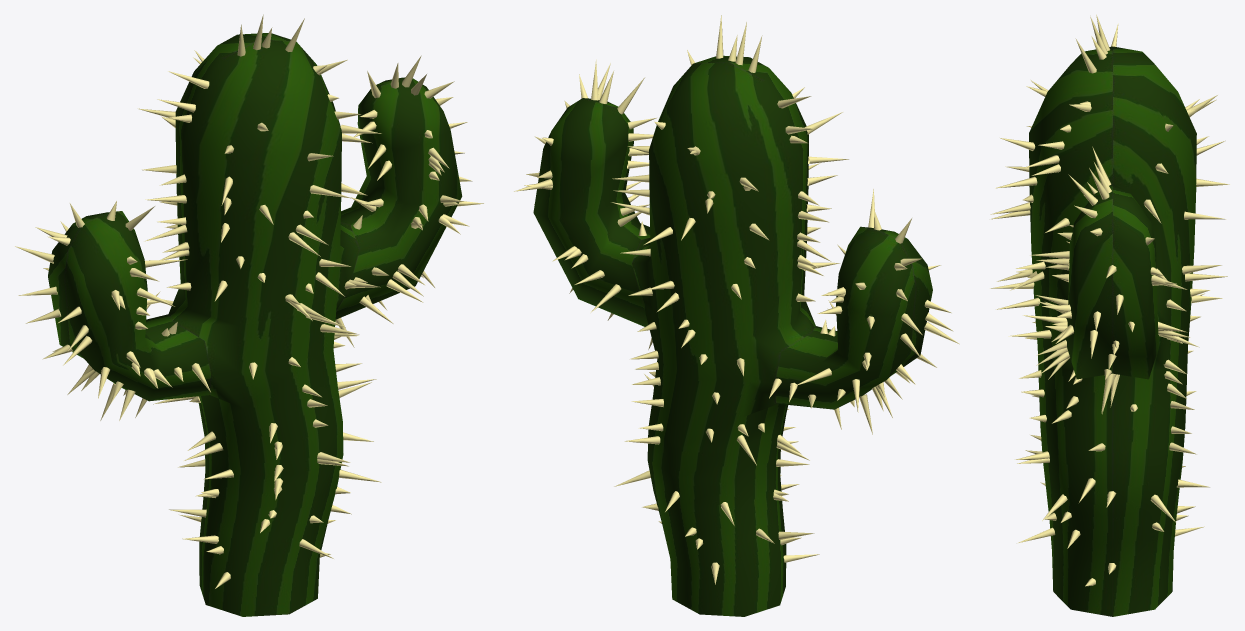
The model's file is Cactus1.fbx.
The picture shows the model from 3 angles, left to right: view 1: azimuth 30°, elevation 25°; view 2: azimuth 150°, elevation 25°; view 3: azimuth 270°, elevation 25°; orthographic projection. The views are drawn at different scales.
Parts seen in each view (by area): view 1: Cactus_Cartoony1; view 2: Cactus_Cartoony1; view 3: Cactus_Cartoony1.
Part boxes in pixels (x1,y1,x2,y2): Cactus_Cartoony1: [15, 14, 483, 616]; Cactus_Cartoony1: [514, 15, 959, 616]; Cactus_Cartoony1: [990, 14, 1229, 616].
Bounding box in the file's own units: 140 × 180 × 68.55.
